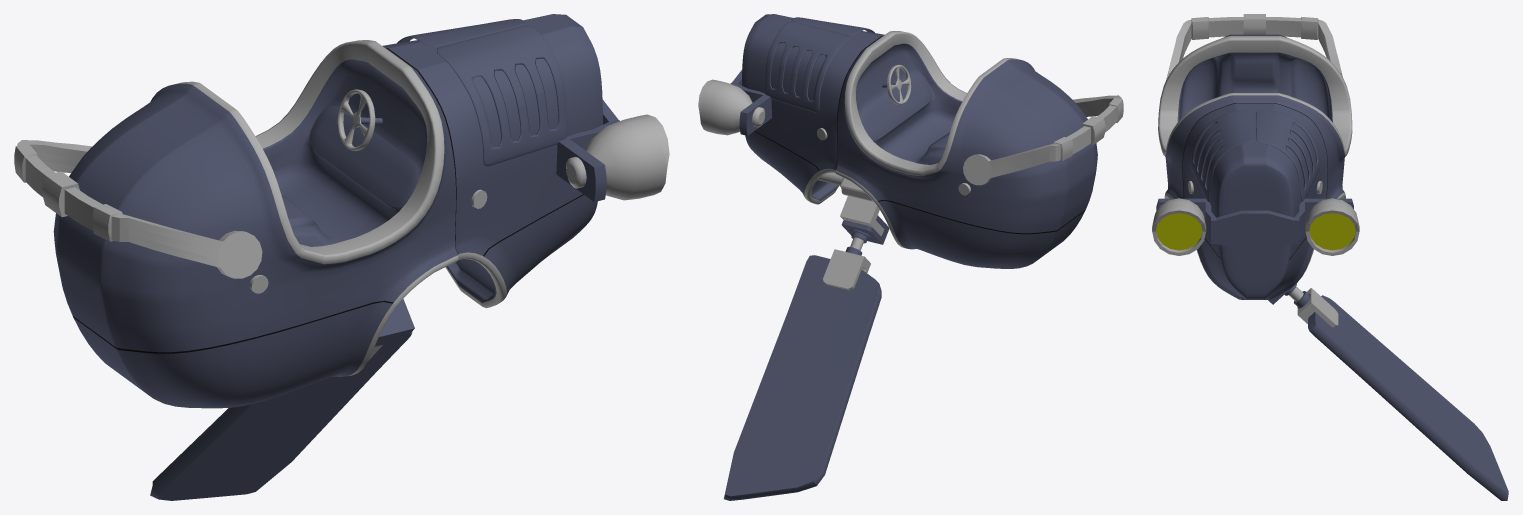
The model's file is SM_flying_ship.fbx.
3 views of the same model, side by side, from view 1: azimuth 30°, elevation 25°; view 2: azimuth 150°, elevation 25°; view 3: azimuth 270°, elevation 25° (orthographic). The views are drawn at different scales.
Visible parts, largest first — view 1: polySurface13; view 2: polySurface13; view 3: polySurface13.
Boxes of the visible parts, x1,y1,x2,y2 form: polySurface13: (14,14,669,500); polySurface13: (698,14,1123,500); polySurface13: (1152,14,1508,500).
Size of the model in its own units: 560 by 570 by 472.
